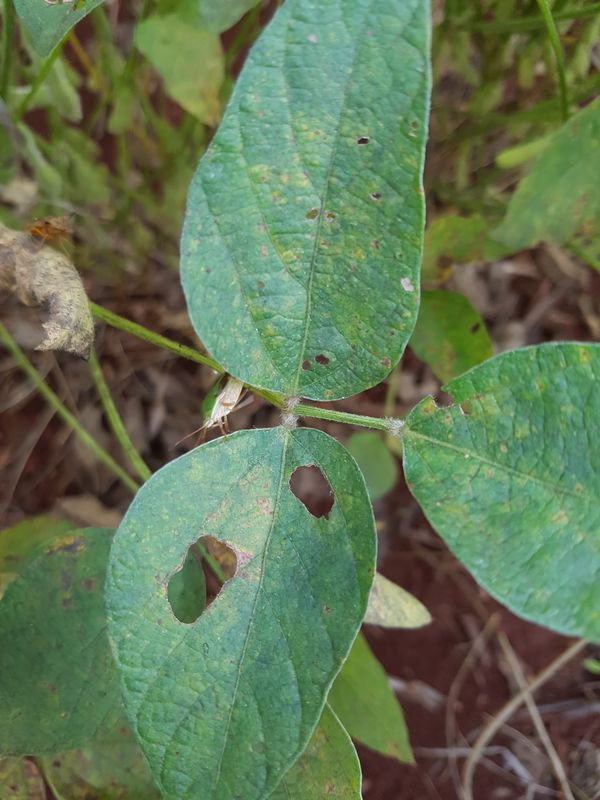Edessa_meditabunda: (169, 356, 261, 456)
